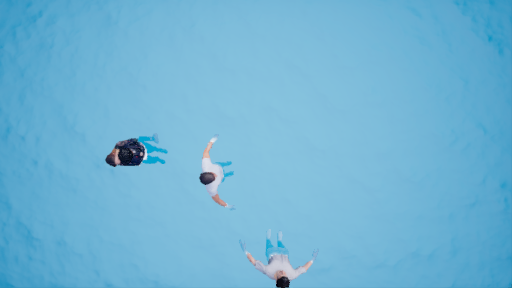person: (236, 229, 324, 286), (198, 138, 239, 207), (104, 136, 174, 170)
